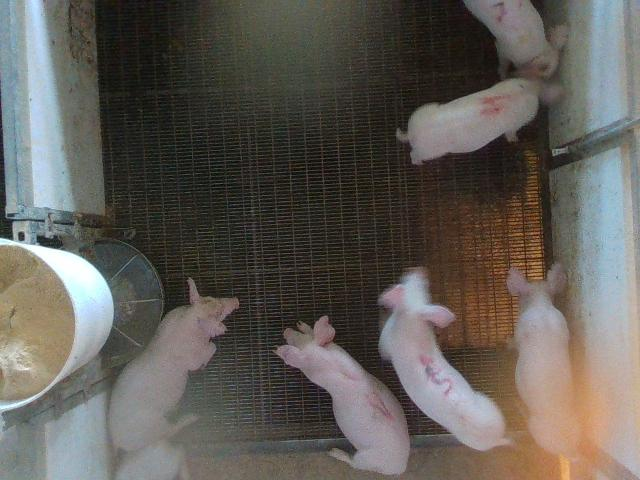pig-1: (275, 316, 410, 474)
pig-3: (379, 269, 510, 451)
pig-4: (396, 78, 542, 164)
